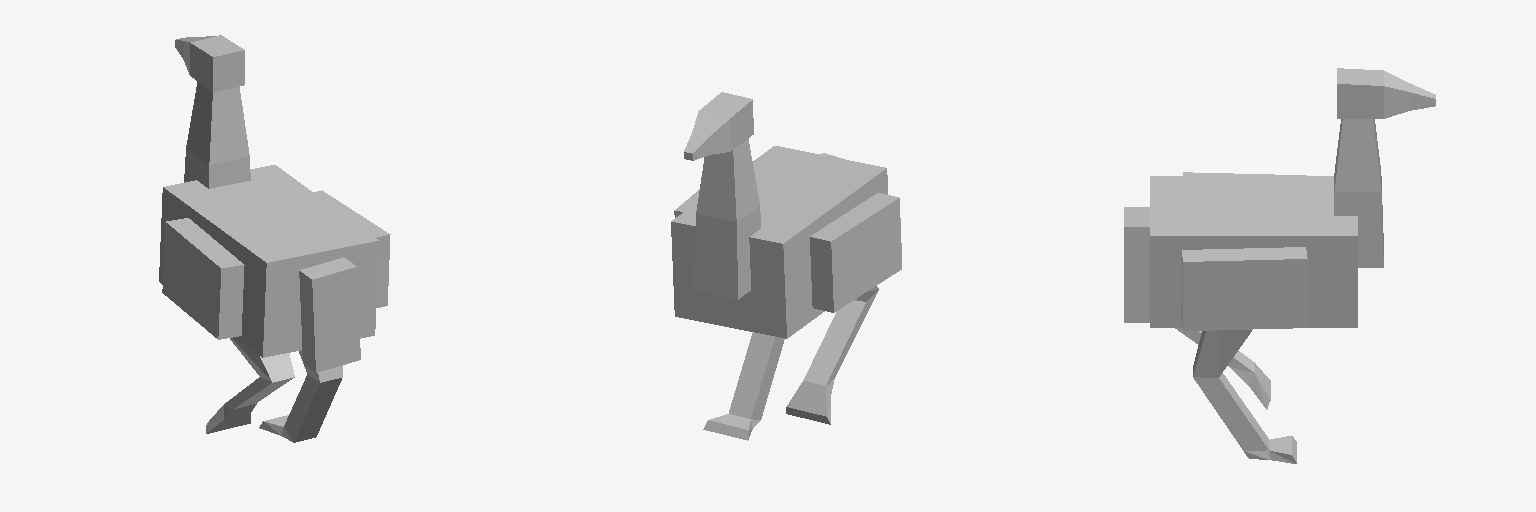
Rendered from Ostrich_000196.obj.
3 views of the same model, side by side, from view 1: azimuth 30°, elevation 25°; view 2: azimuth 150°, elevation 25°; view 3: azimuth 270°, elevation 25° (orthographic).
Parts seen in each view (by area): view 1: Cube_Cube.001; view 2: Cube_Cube.001; view 3: Cube_Cube.001.
Boxes of the visible parts, <box> form: Cube_Cube.001: <box>159,35,390,442</box>; Cube_Cube.001: <box>671,92,901,440</box>; Cube_Cube.001: <box>1124,68,1435,463</box>.
Bounding box in the file's own units: 0.7651 × 1.54 × 1.2.